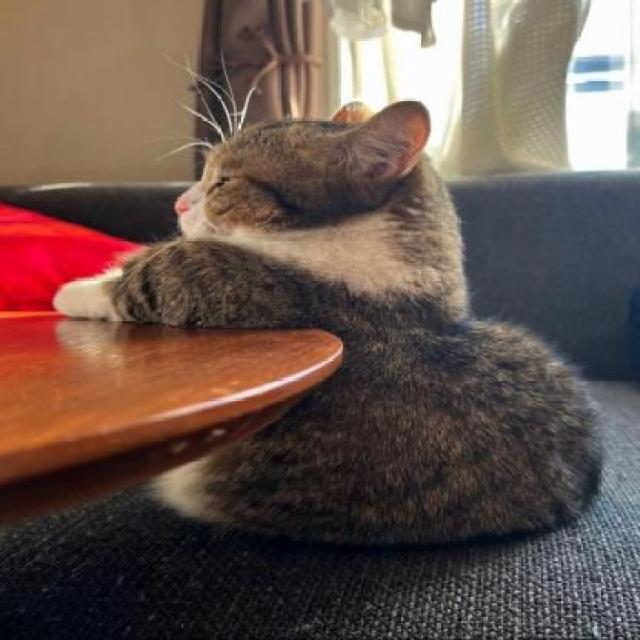cat: (47, 80, 611, 548)
